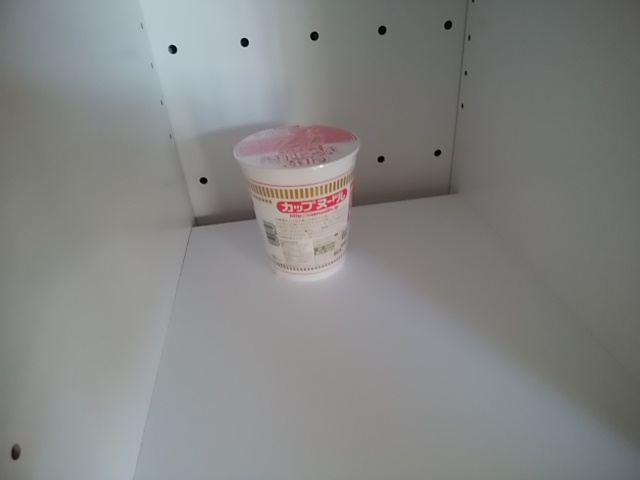cup-ramen: (226, 121, 373, 286)
